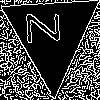Z: (26, 10, 69, 44)
